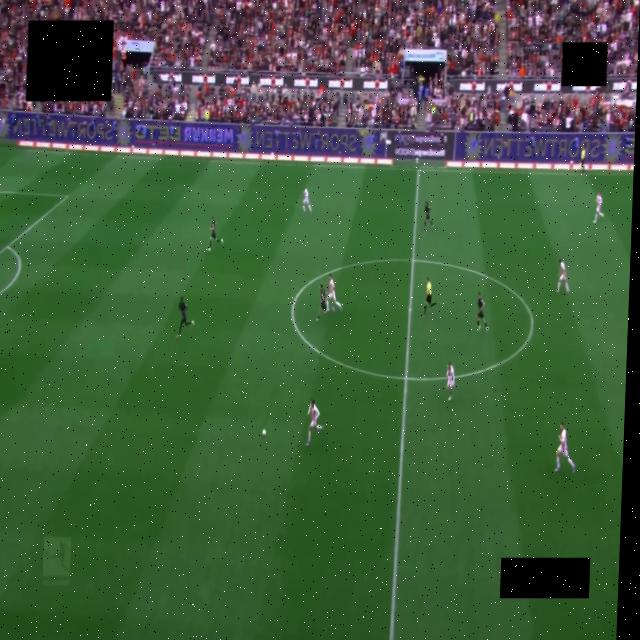ball: (262, 430, 265, 436)
player: (555, 423, 575, 472), (175, 297, 193, 339), (306, 400, 322, 446), (207, 216, 222, 251), (327, 274, 341, 311), (476, 292, 488, 331), (316, 285, 329, 320), (555, 259, 568, 293), (445, 361, 456, 401), (593, 192, 603, 223), (424, 201, 433, 229), (302, 187, 310, 213)
referee: (423, 278, 436, 317)
